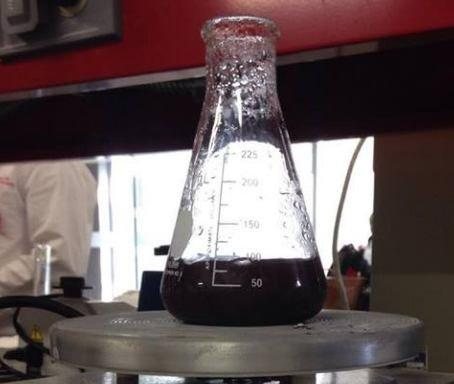Titrarion: (151, 22, 330, 324)
